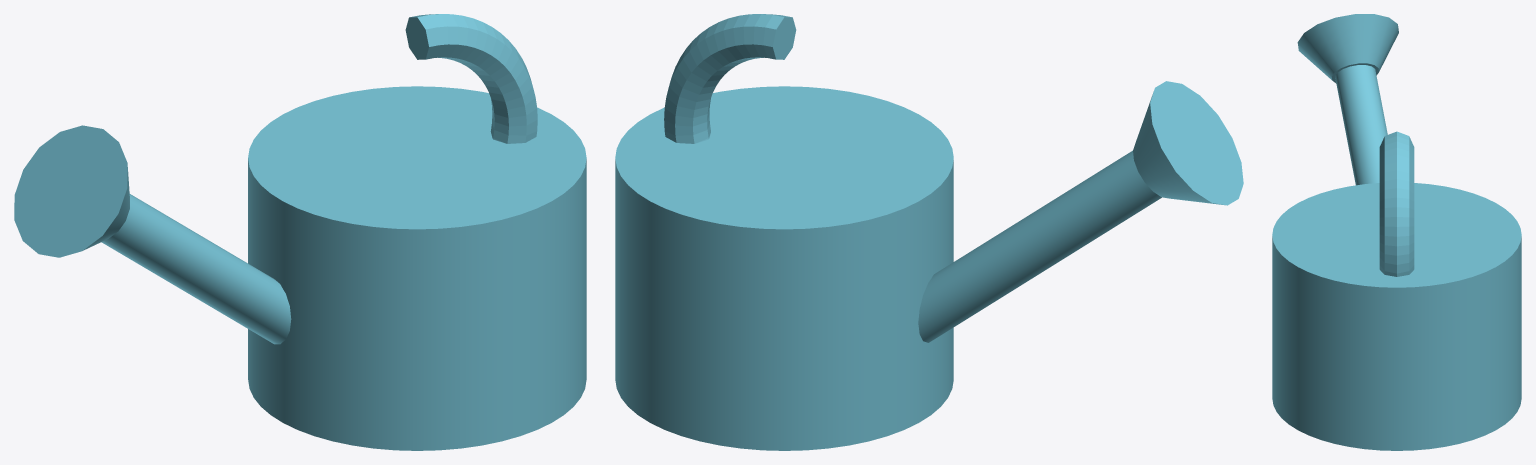
Rendered from watering_can.fbx.
3 renders of one model, left to right at view 1: azimuth 30°, elevation 25°; view 2: azimuth 150°, elevation 25°; view 3: azimuth 270°, elevation 25°, orthographic. The views are drawn at different scales.
Visible parts, largest first — view 1: Cylinder025, Cone016, Cylinder026, Torus016; view 2: Cylinder025, Cylinder026, Cone016, Torus016; view 3: Cylinder025, Torus016, Cone016, Cylinder026.
Boxes of the visible parts, box(x1,y1,x2,y2) form: Cylinder025: box(248, 86, 586, 450); Cone016: box(14, 125, 129, 257); Cylinder026: box(101, 194, 291, 344); Torus016: box(405, 14, 537, 143); Cylinder025: box(615, 86, 953, 450); Cylinder026: box(918, 150, 1161, 342); Cone016: box(1133, 81, 1243, 205); Torus016: box(664, 14, 796, 143); Cylinder025: box(1272, 183, 1521, 450); Torus016: box(1379, 131, 1414, 276); Cone016: box(1297, 14, 1398, 83); Cylinder026: box(1335, 65, 1387, 185).
Size of the model in its own units: 6.94 by 4.25 by 3.6.
